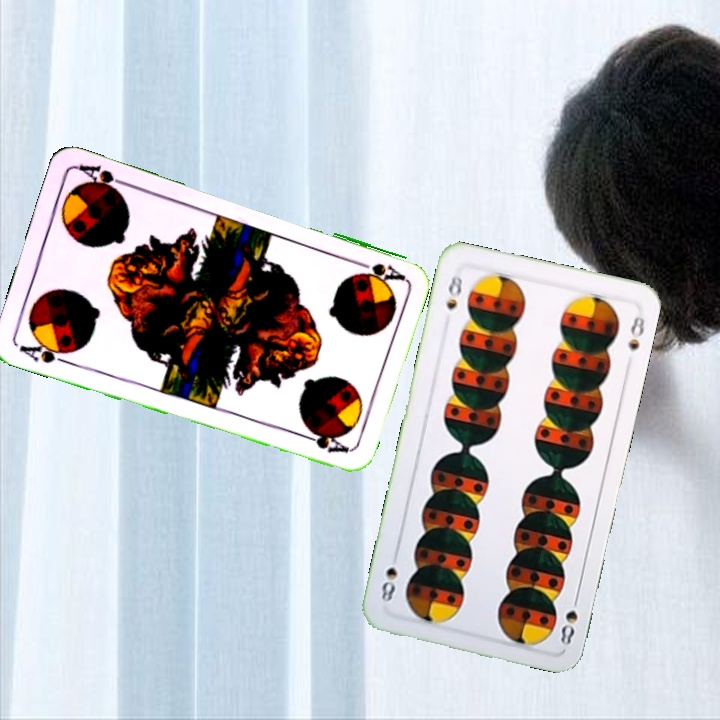S8: (556, 590, 582, 648), (442, 270, 465, 313)
SA: (15, 336, 76, 367), (348, 256, 406, 283)
